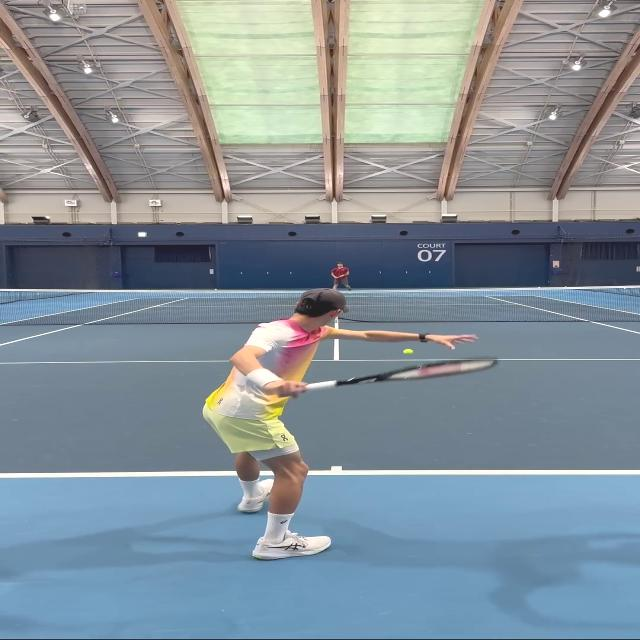tennis_ball: (405, 350, 411, 353)
